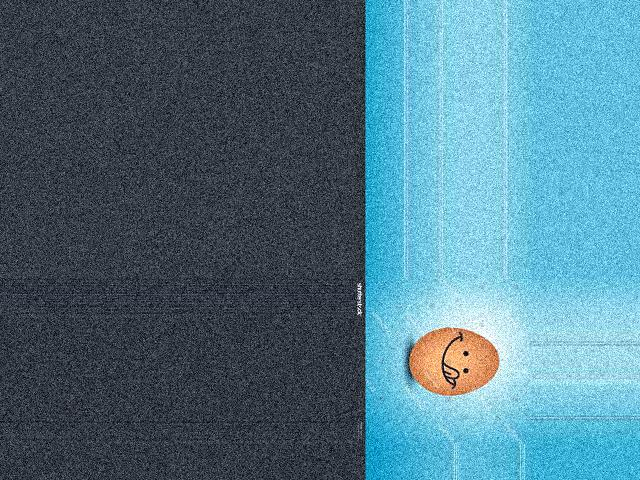egg: (408, 327, 499, 396)
